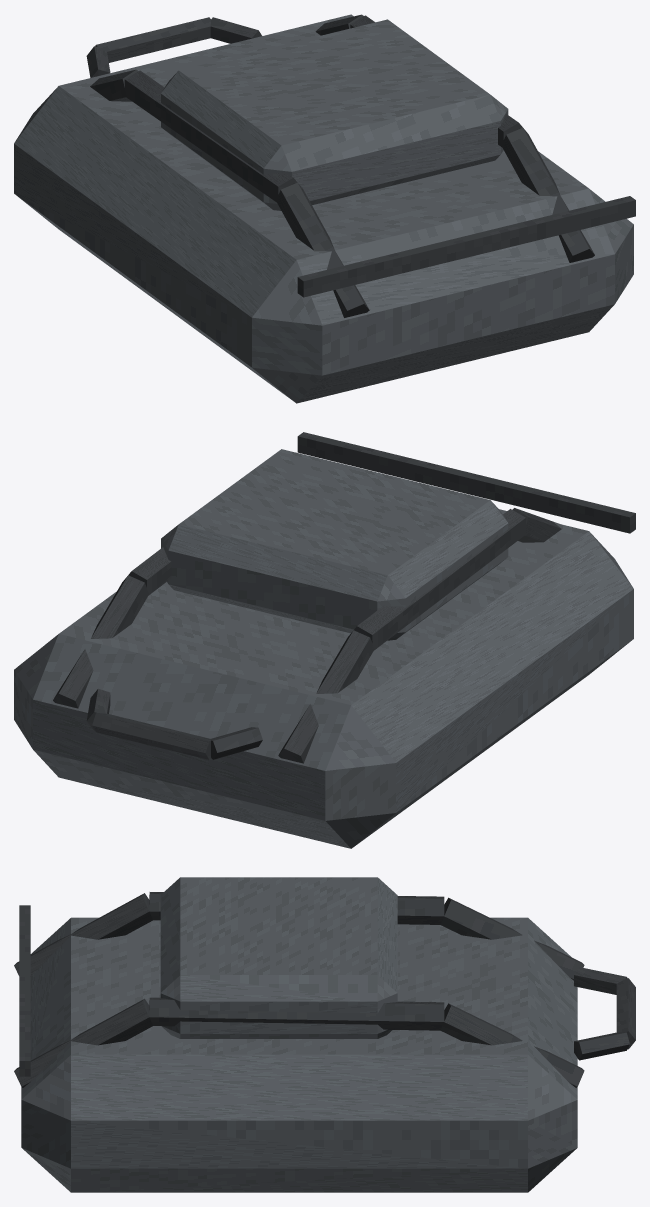
Rendered from bigback.glb.
The picture shows the model from 3 angles, top to bottom: view 1: azimuth 30°, elevation 25°; view 2: azimuth 150°, elevation 25°; view 3: azimuth 270°, elevation 25°; orthographic projection. The views are drawn at different scales.
Parts seen in each view (by area): view 1: block_bag shell, block_front pocket, block_zipper, block_webbing strap 2 (×2), block_webbing strap 1 (×2), block_carry handle 1, block_carry handle 2, block_webbing strap 0, block_carry handle 0; view 2: block_bag shell, block_front pocket, block_zipper, block_webbing strap 0 (×2), block_webbing strap 1 (×2), block_carry handle 1, block_carry handle 0, block_webbing strap 2; view 3: block_bag shell, block_front pocket, block_webbing strap 1 (×2), block_webbing strap 2 (×2), block_webbing strap 0 (×2), block_zipper, block_carry handle 1, block_carry handle 2, block_carry handle 0.
Part boxes in pixels (x1,y1,x2,y2): block_bag shell: (14,14,633,403); block_front pocket: (161,19,508,210); block_zipper: (297,196,635,297); block_webbing strap 2 (×2): (276,127,594,317); block_webbing strap 1 (×2): (124,15,523,203); block_carry handle 1: (95,17,210,62); block_carry handle 2: (210,17,261,43); block_webbing strap 0: (90,69,138,101); block_carry handle 0: (86,46,110,77); block_bag shell: (14,509,633,848); block_front pocket: (161,449,508,640); block_zipper: (297,432,635,533); block_webbing strap 0 (×2): (53,575,374,763); block_webbing strap 1 (×2): (128,509,525,650); block_carry handle 1: (92,713,210,759); block_carry handle 0: (211,727,262,759); block_webbing strap 2: (512,508,561,542); block_bag shell: (21,917,577,1192); block_front pocket: (160,877,397,1038); block_webbing strap 1 (×2): (149,892,444,1030); block_webbing strap 2 (×2): (14,893,152,1087); block_webbing strap 0 (×2): (440,897,584,1087); block_zipper: (19,905,30,1076); block_carry handle 1: (616,978,635,1049); block_carry handle 2: (574,1032,629,1060); block_carry handle 0: (574,967,627,994).
Bounding box in the file's own units: 0.3816 × 0.1968 × 0.5601.
1 material, 1 textured.
